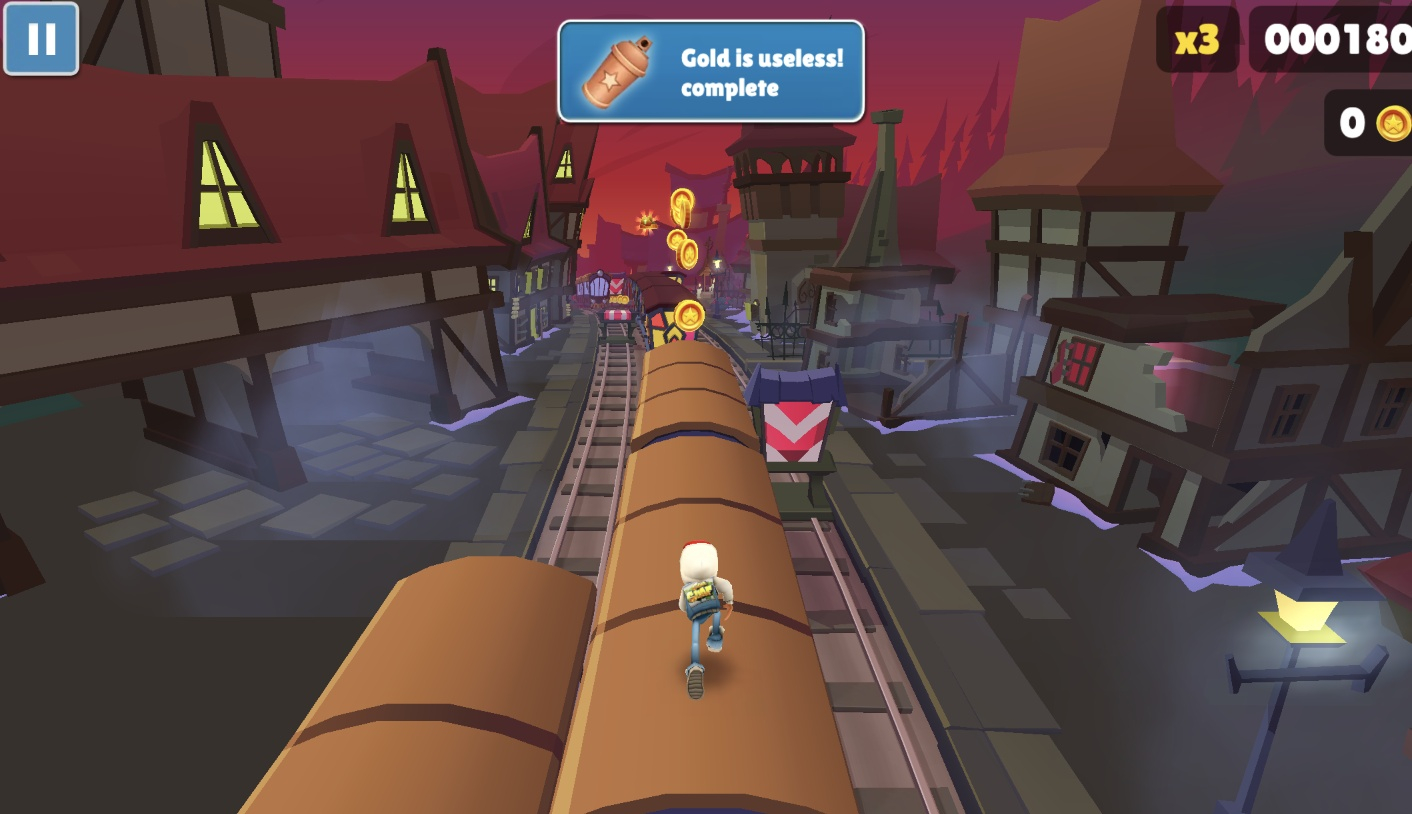ground_barrier: (596, 310, 638, 348)
overhead_barrier: (749, 375, 857, 527)
train: (548, 357, 859, 814), (248, 563, 562, 814), (626, 275, 703, 366), (575, 272, 614, 311)
